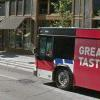Bus: (32, 22, 100, 95)
